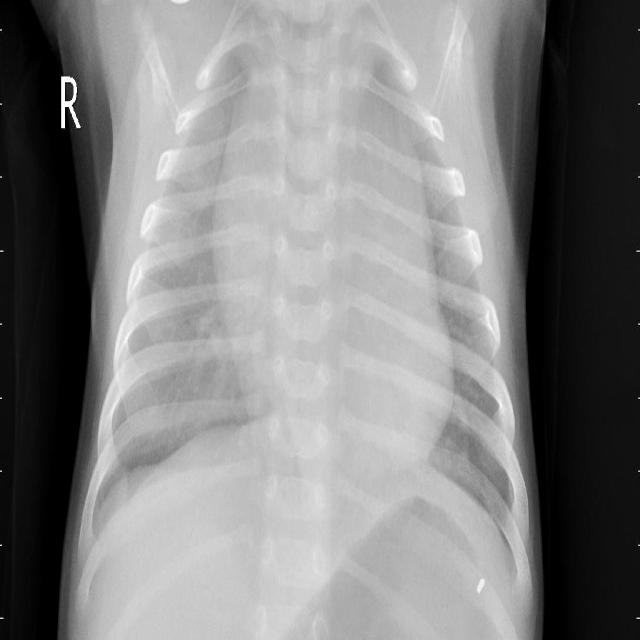high-pneumonia: (111, 223, 241, 459), (170, 53, 253, 218), (432, 205, 492, 353), (364, 52, 426, 145)
